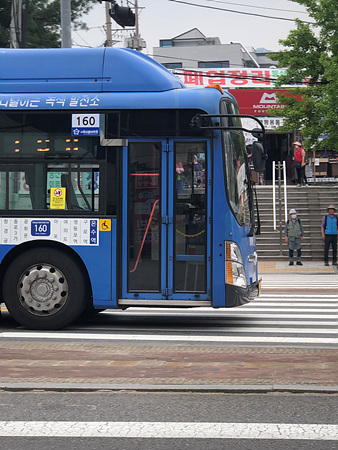entrance: (119, 129, 215, 303)
